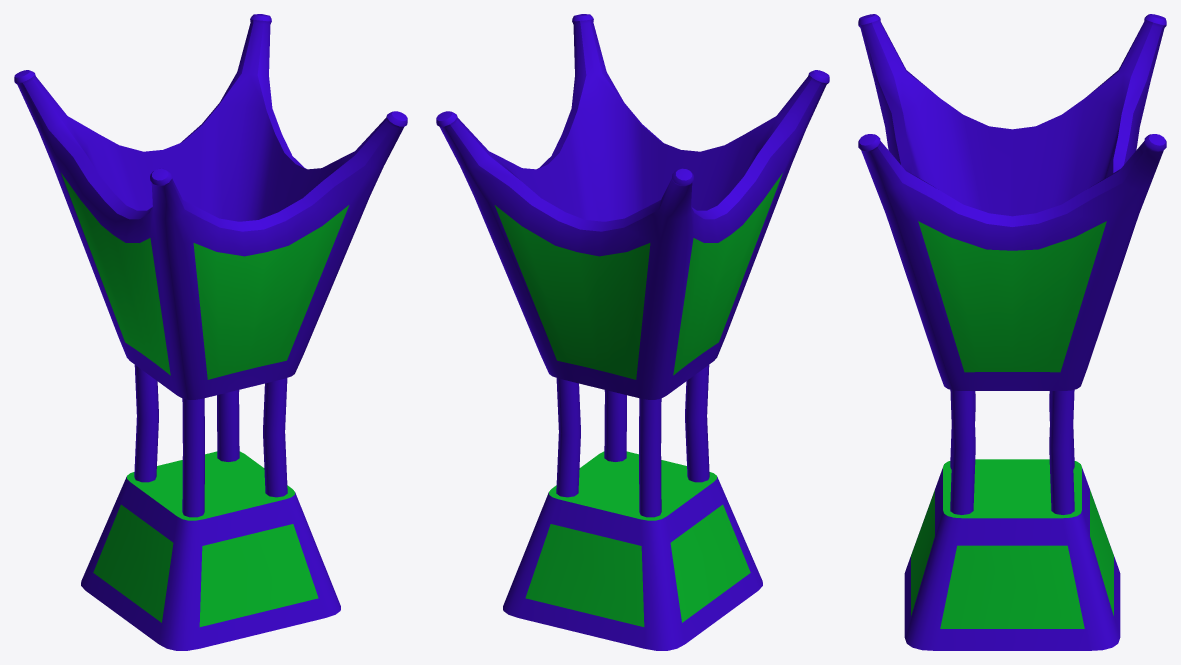
Rendered from mbhrh.fbx.
The picture shows the model from 3 angles, left to right: view 1: azimuth 30°, elevation 25°; view 2: azimuth 150°, elevation 25°; view 3: azimuth 270°, elevation 25°; orthographic projection. The views are drawn at different scales.
Parts seen in each view (by area): view 1: Box001; view 2: Box001; view 3: Box001.
Part boxes in pixels (left/top/right/bottom): Box001: left=14, top=14, right=407, bottom=650; Box001: left=436, top=14, right=829, bottom=650; Box001: left=858, top=14, right=1166, bottom=650.
Bounding box in the file's own units: 48.19 × 91.02 × 48.04.
